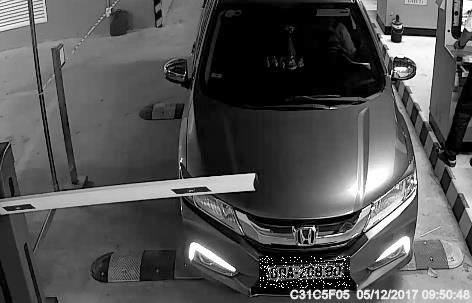License-plate: (260, 258, 351, 290)
